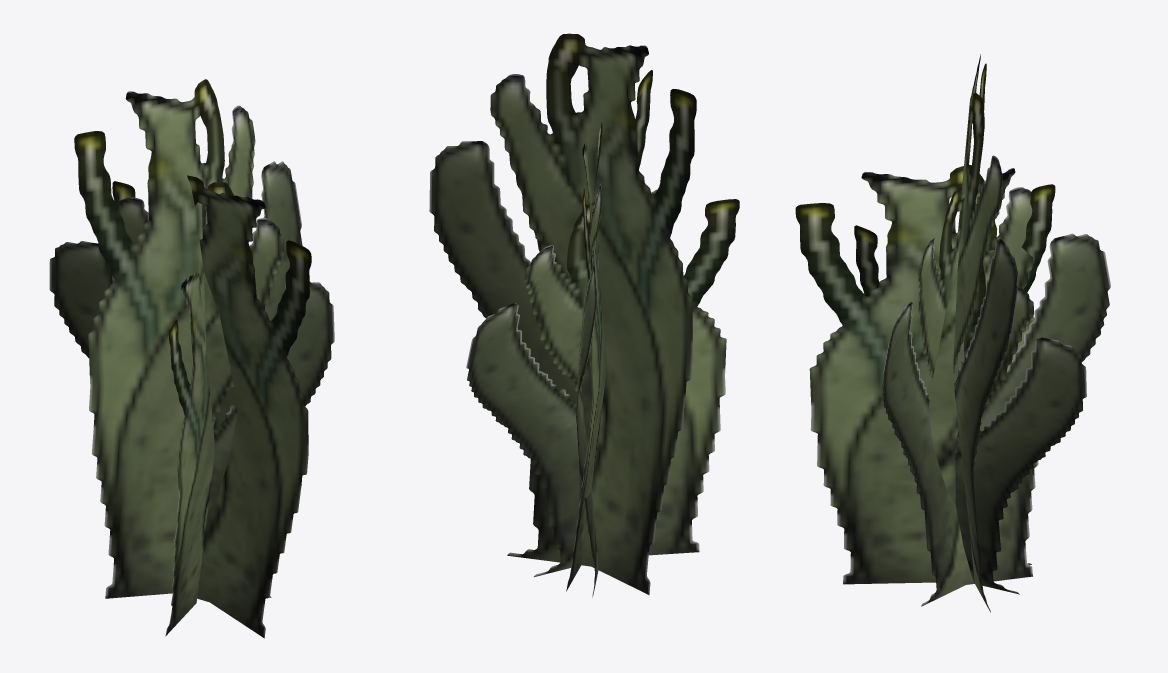
The model's file is AloeBulbs.fbx.
3 views of the same model, side by side, from view 1: azimuth 30°, elevation 25°; view 2: azimuth 150°, elevation 25°; view 3: azimuth 270°, elevation 25° (orthographic). The views are drawn at different scales.
Parts seen in each view (by area): view 1: AloeBulbs; view 2: AloeBulbs; view 3: AloeBulbs.
Boxes of the visible parts, bbox=[...] form: AloeBulbs: bbox=[49, 79, 334, 638]; AloeBulbs: bbox=[429, 33, 739, 597]; AloeBulbs: bbox=[795, 54, 1110, 612].
Size of the model in its own units: 227 by 400 by 265.
Materials: 1 (1 with a texture image).
